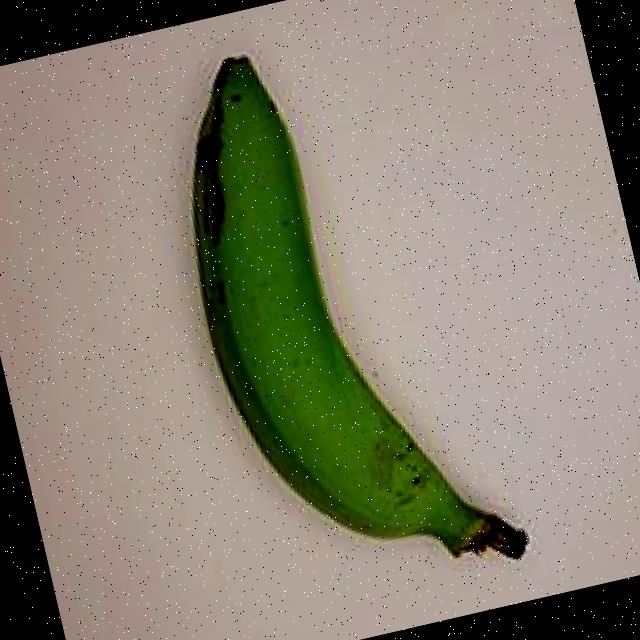Raw: (133, 0, 551, 634)
